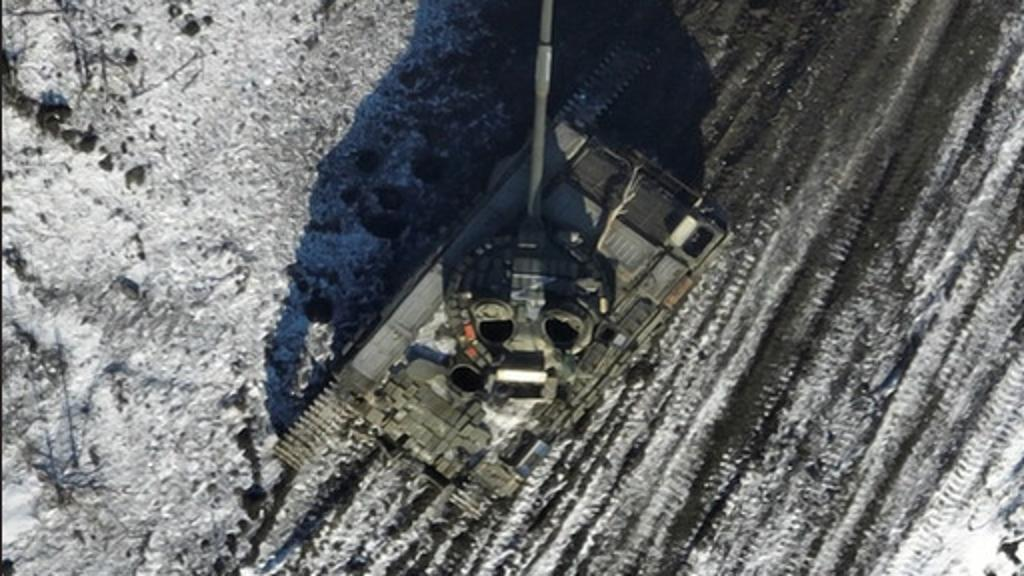TANK: (298, 2, 730, 520)
